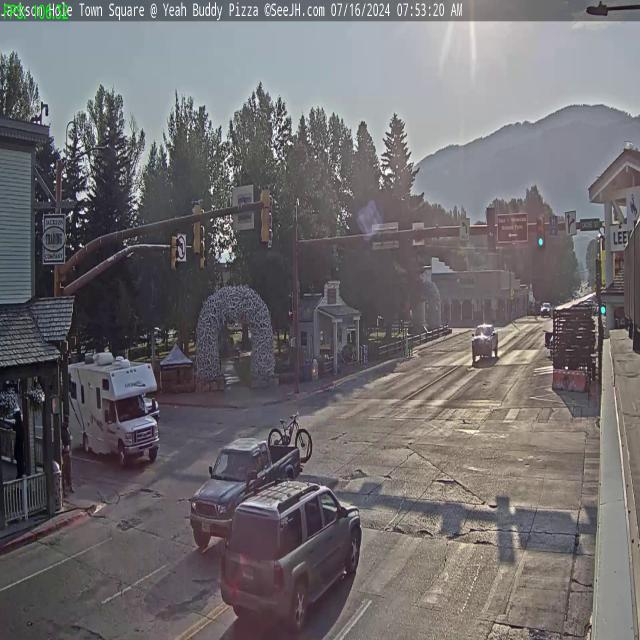bike: (268, 414, 312, 463)
person: (61, 415, 72, 498)
pickup: (190, 436, 298, 533), (471, 323, 499, 362)
suv: (214, 473, 365, 640)
traffic light: (260, 185, 272, 245), (191, 199, 203, 256), (486, 207, 497, 252), (170, 231, 178, 271), (537, 214, 545, 248)
truck: (64, 358, 159, 468)
